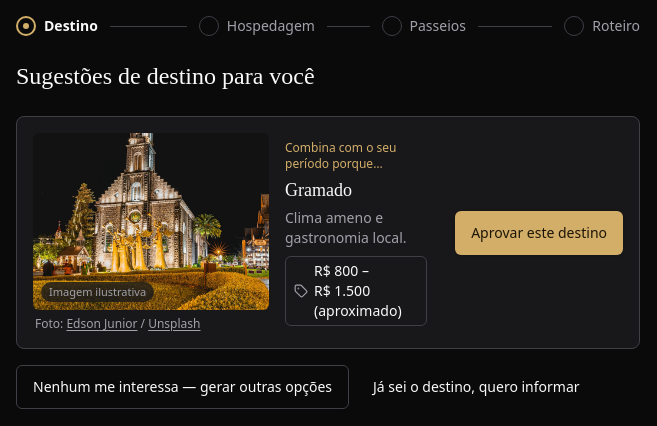
Scenario: DestinoSugestoesScreen — estado Vazio › 'Nenhum me interessa' mostra EmptyState oferecendo nova rodada ou entrada manual (RF-04.4)
The width and height of the screenshot is (657, 426).
Expected: the text "Gramado" is shown, [285,180,352,200]
Click the button "Nenhum me interessa — gerar outras opções": [182, 387] box [16,365,349,409]
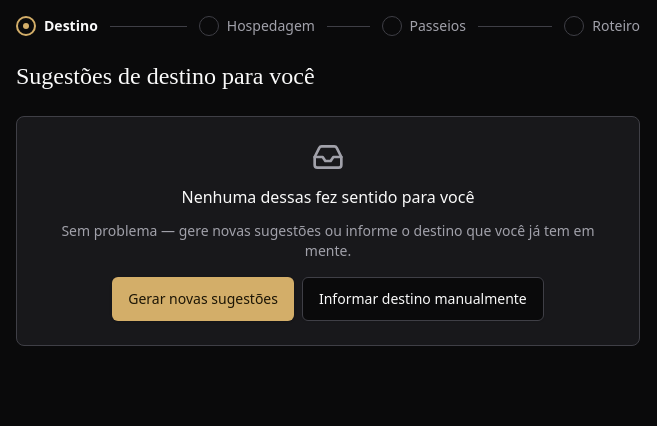
Expected: the button "Gerar novas sugestões" is shown, [112,277,294,321]
Expected: the button "Informar destino manualmente" is shown, [302,277,544,321]
